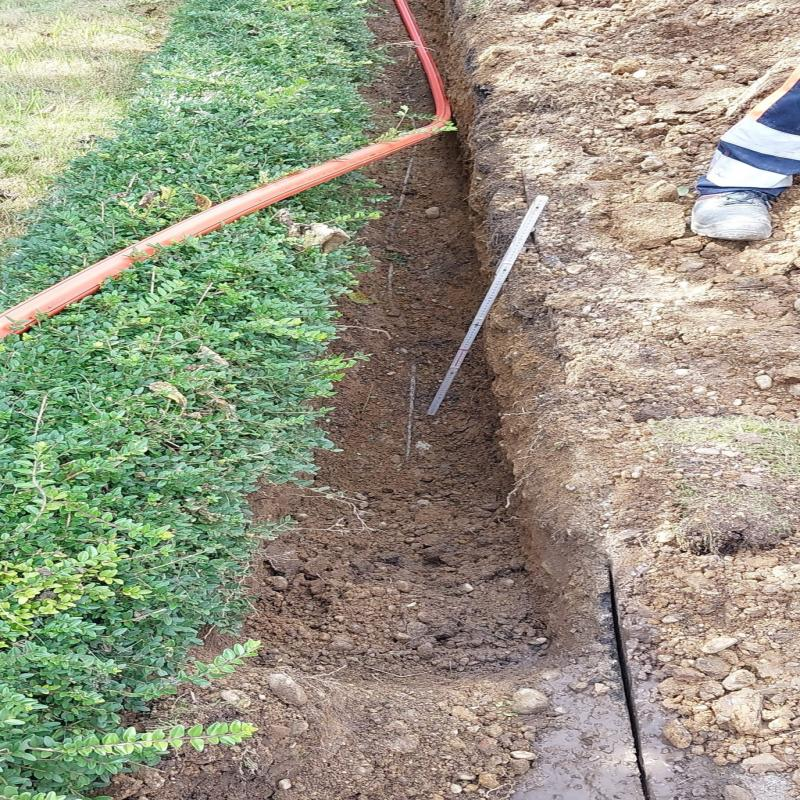Orang-Speednetrohrchen: (0, 3, 450, 333)
